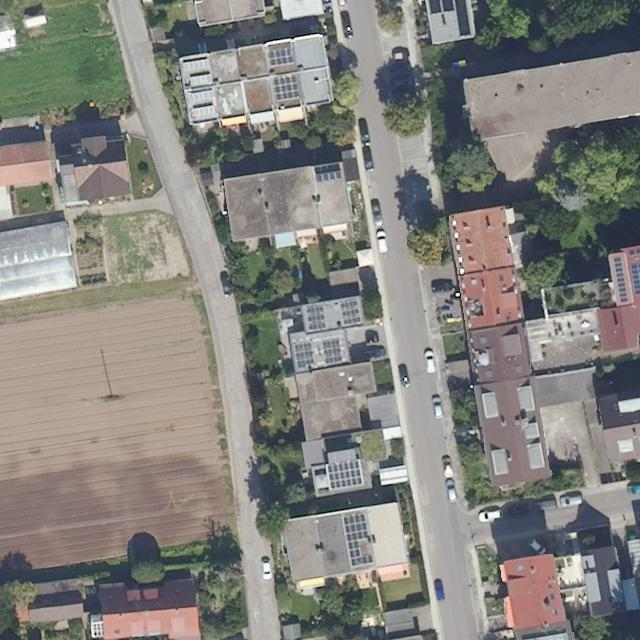PV: (342, 513, 375, 568), (326, 459, 363, 490), (272, 75, 300, 101), (613, 256, 628, 303), (340, 299, 361, 326), (294, 341, 314, 369), (305, 305, 326, 331), (315, 163, 342, 183), (266, 47, 294, 66), (322, 338, 342, 364), (631, 262, 639, 295), (628, 247, 639, 256)
